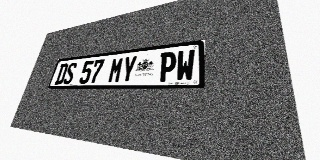5: (78, 60, 94, 84)
7: (88, 59, 105, 84)
D: (54, 63, 69, 85)
M: (107, 57, 124, 83)
P: (158, 51, 177, 82)
S: (62, 62, 78, 84)
W: (175, 49, 195, 81)
Y: (120, 55, 138, 83)
